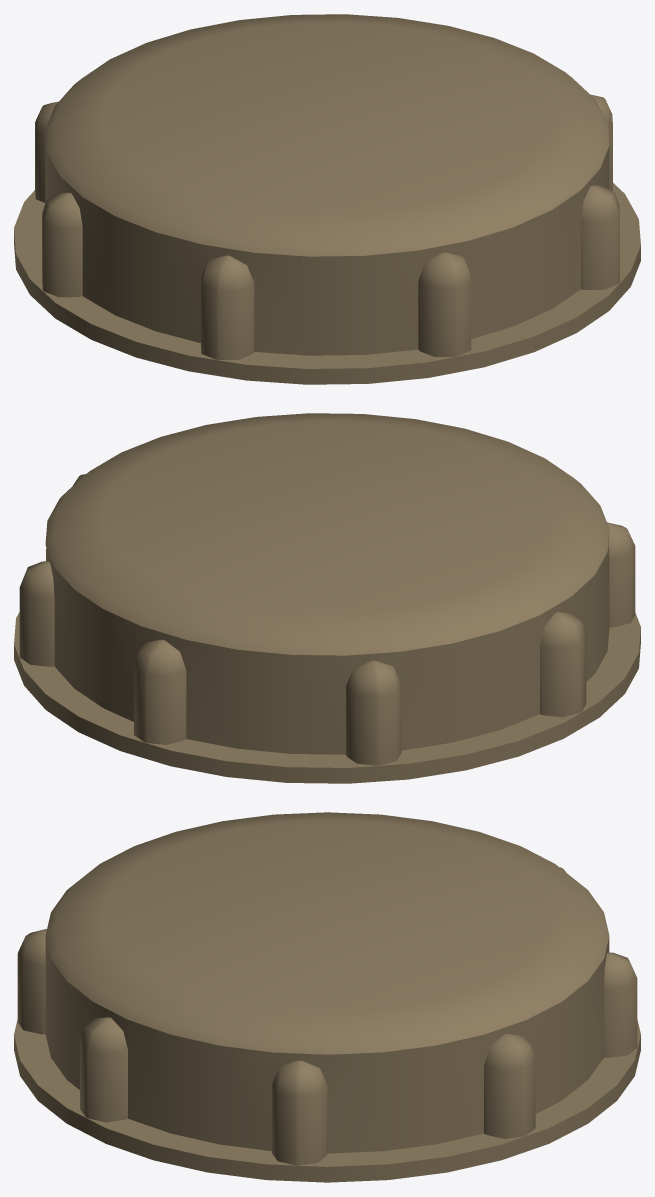
Rendered from FuelCap.fbx.
3 renders of one model, top to bottom at view 1: azimuth 30°, elevation 25°; view 2: azimuth 150°, elevation 25°; view 3: azimuth 270°, elevation 25°, orthographic.
Visible parts, largest first — view 1: Cylinder.001; view 2: Cylinder.001; view 3: Cylinder.001.
Boxes of the visible parts, bbox=[...] form: Cylinder.001: bbox=[14, 14, 640, 384]; Cylinder.001: bbox=[14, 413, 640, 783]; Cylinder.001: bbox=[14, 812, 640, 1182].
Bounding box in the file's own units: 67.12 × 19.24 × 67.12.
